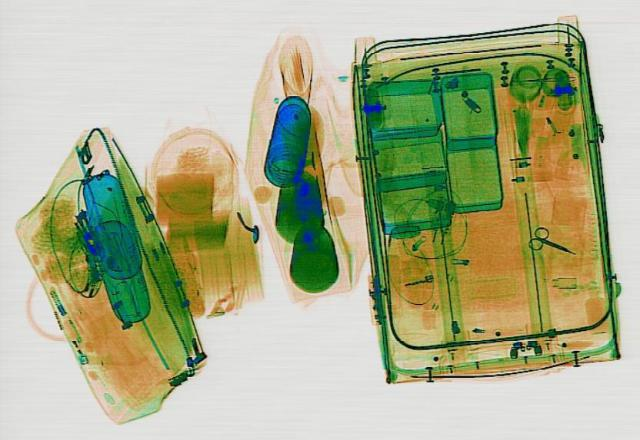Scissors: (520, 223, 586, 260)
